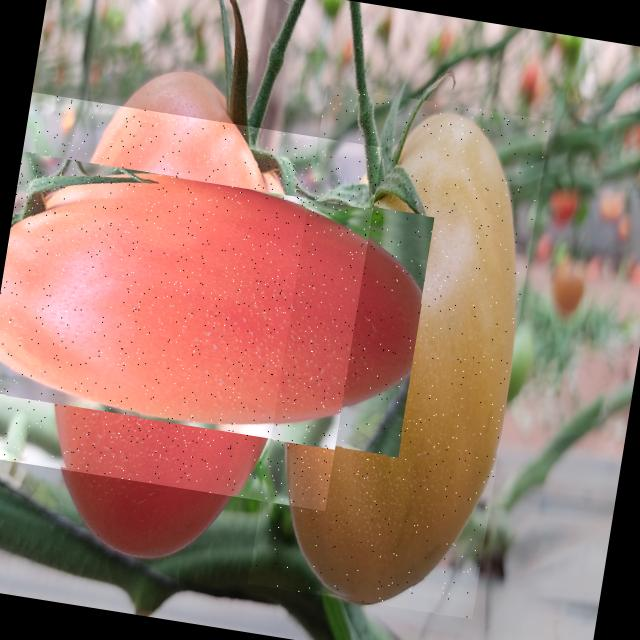Ripe Tomato: (0, 92, 382, 511)
Unripe Tomato: (248, 86, 551, 620)
